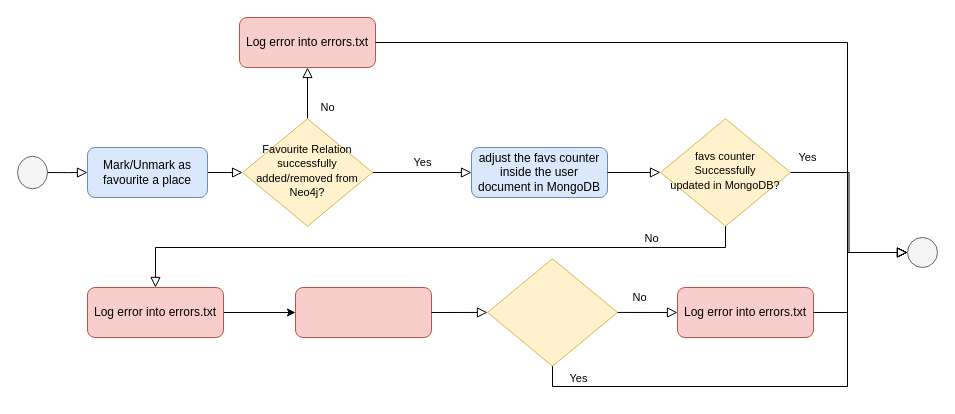
The diagram is 955 pixels wide and 414 high, and some of its shapes have lost their labels. Each missing label, with the centre of its shape:
end: (922,252)
Relationship successfully restored/deleted?: (552,312)
Restore/delete the favourite relationship in Neo4j: (363,312)
start: (32,172)
